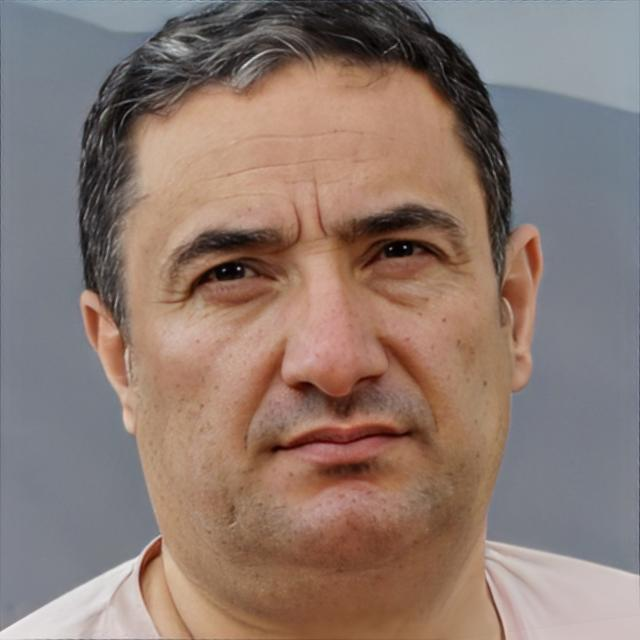anger: (128, 68, 510, 594)
